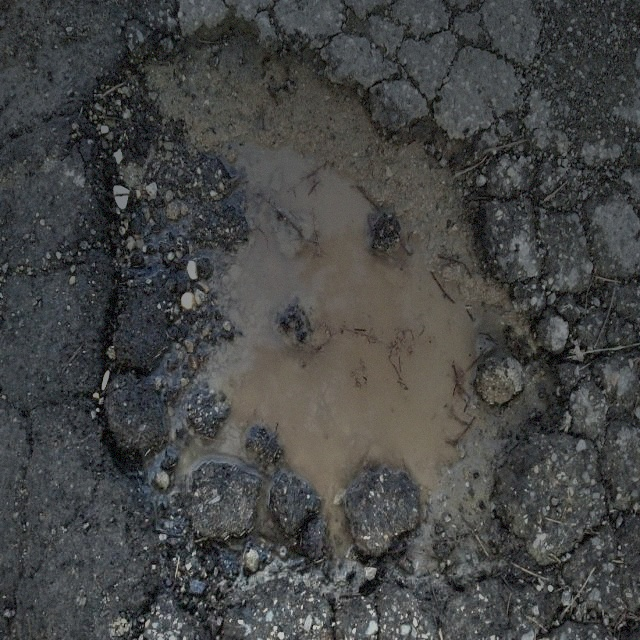pothole: (82, 11, 571, 563)
